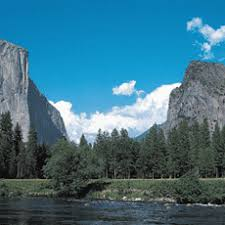forest: (6, 139, 225, 196)
mountain: (3, 52, 67, 169), (161, 66, 225, 183)
sky: (26, 6, 184, 128)
